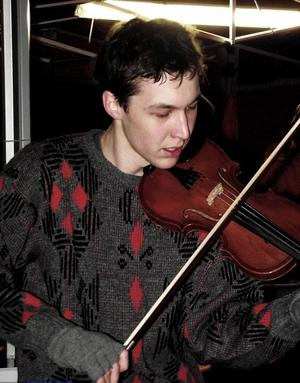person: (1, 19, 300, 383)
